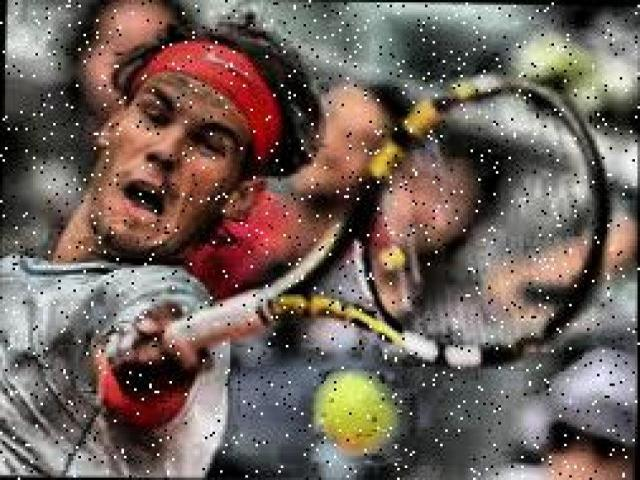tennis-ball: (311, 367, 398, 452)
